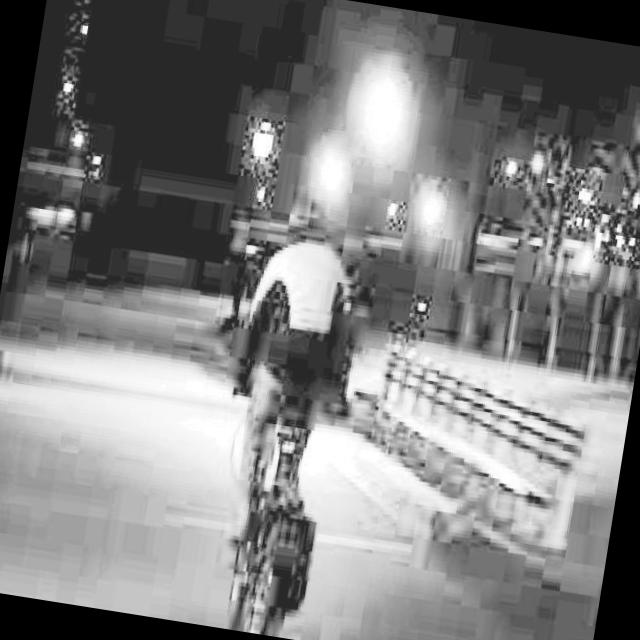Bicycle: (174, 399, 353, 640)
